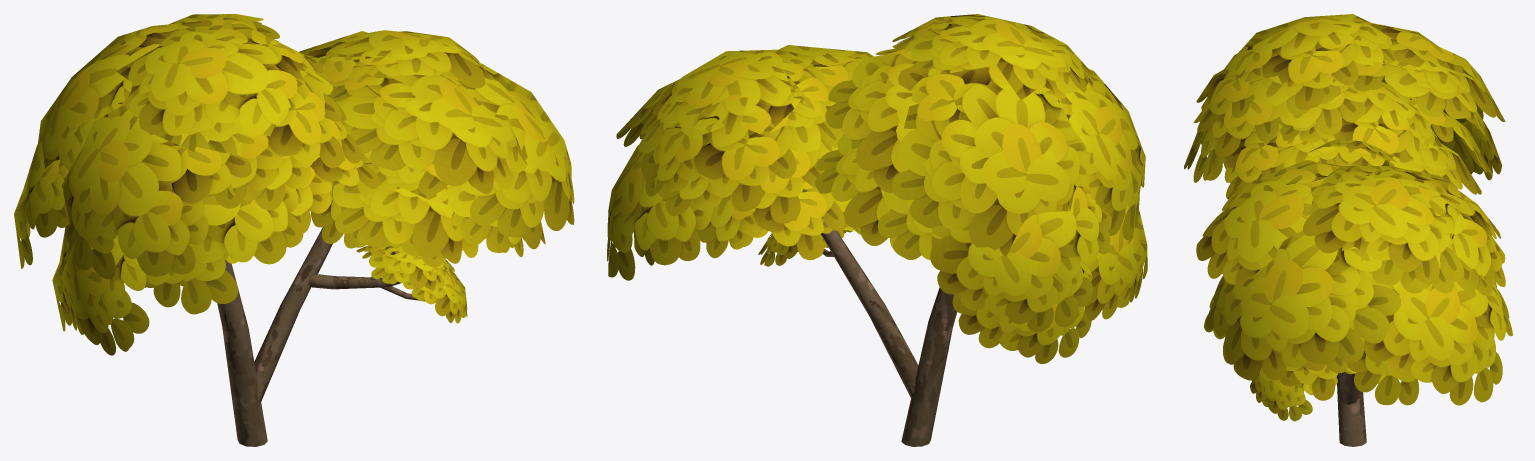
The model's file is Pine_7.gltf.
3 views of the same model, side by side, from view 1: azimuth 30°, elevation 25°; view 2: azimuth 150°, elevation 25°; view 3: azimuth 270°, elevation 25° (orthographic). The views are drawn at different scales.
Visible parts, largest first — view 1: Tree_8; view 2: Tree_8; view 3: Tree_8.
Boxes of the visible parts, x1,y1,x2,y2 form: Tree_8: [14, 14, 574, 446]; Tree_8: [607, 14, 1147, 446]; Tree_8: [1184, 14, 1512, 446].
Size of the model in its own units: 6.94 by 5.52 by 4.39.
Materials: 2 (2 with a texture image).
